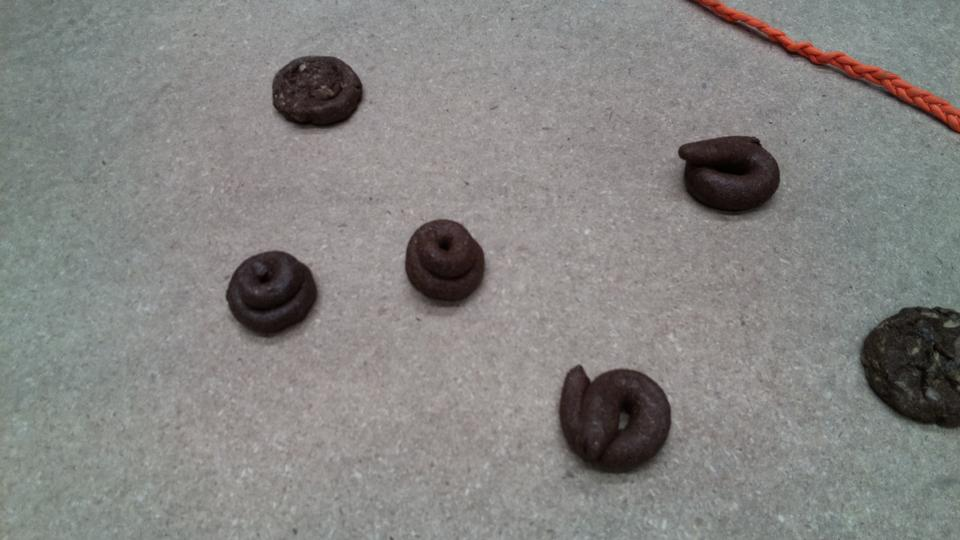poop: (857, 299, 960, 436), (557, 363, 676, 479), (676, 132, 785, 220), (223, 247, 321, 341), (402, 217, 491, 310), (269, 53, 365, 131)
rope: (690, 1, 960, 136)
